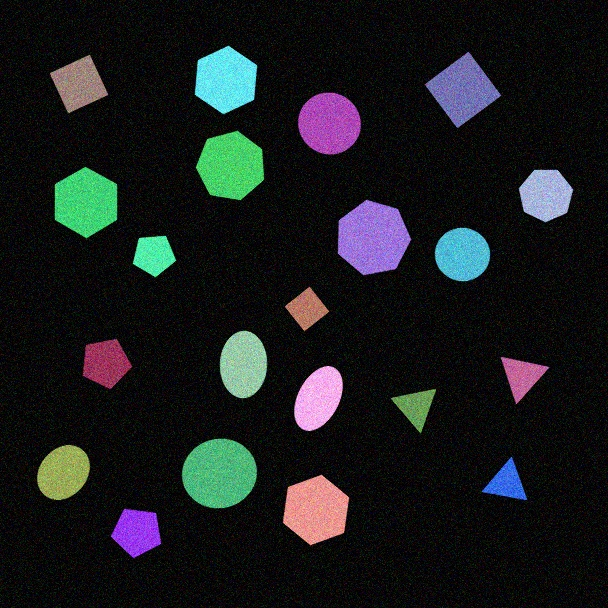Circulo: (181, 438, 258, 509), (297, 92, 362, 155), (434, 227, 491, 282)
Elipse: (293, 365, 344, 432), (219, 330, 268, 399), (36, 444, 91, 501)
Heptagono: (337, 199, 412, 276), (195, 130, 265, 201), (518, 169, 574, 223)
Hexagono: (282, 474, 350, 546), (54, 166, 118, 239), (194, 45, 258, 115)
Pentagono: (82, 338, 133, 390), (110, 508, 162, 559), (132, 235, 177, 278)
Quadrado: (424, 51, 502, 129), (49, 54, 109, 114), (284, 286, 330, 332)
Triangulo: (500, 356, 550, 405), (390, 388, 437, 434), (481, 457, 528, 501)
